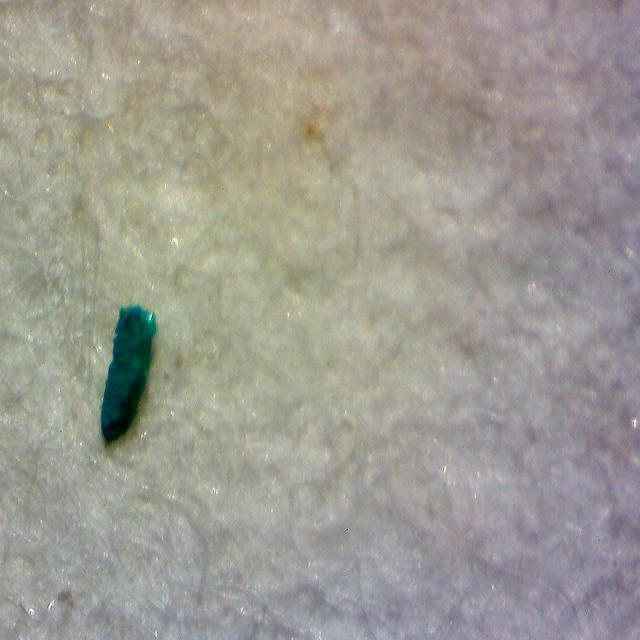microplastic: (93, 303, 161, 456)
